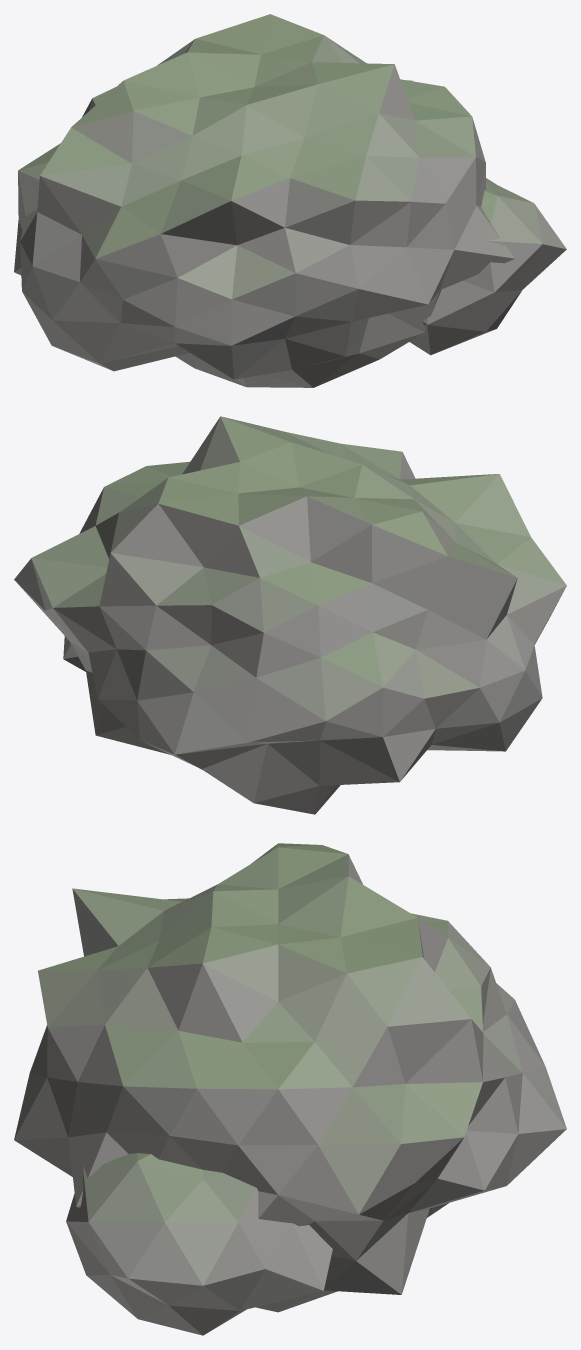
Rendered from pilot_rock_a.glb.
The picture shows the model from 3 angles, top to bottom: view 1: azimuth 30°, elevation 25°; view 2: azimuth 150°, elevation 25°; view 3: azimuth 270°, elevation 25°; orthographic projection. The views are drawn at different scales.
Visible parts, largest first — view 1: pilot_rock_a; view 2: pilot_rock_a; view 3: pilot_rock_a.
Boxes of the visible parts, x1,y1,x2,y2 form: pilot_rock_a: [14, 14, 566, 387]; pilot_rock_a: [14, 416, 566, 814]; pilot_rock_a: [14, 843, 566, 1335].
Bounding box in the file's own units: 1.76 × 1.04 × 1.47.
